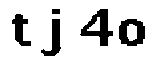4: (73, 5, 114, 49)
j: (38, 6, 66, 59)
o: (116, 16, 148, 50)
t: (8, 11, 33, 52)
